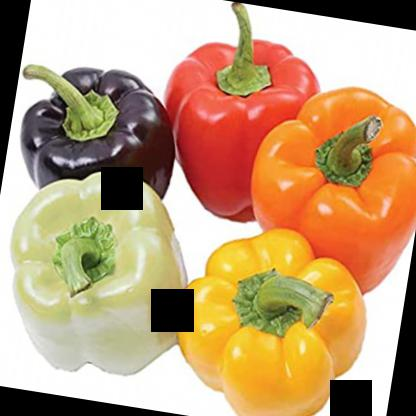bell pepper: (0, 161, 209, 388), (159, 212, 373, 415), (150, 4, 333, 236), (235, 72, 415, 299), (2, 51, 188, 218)
